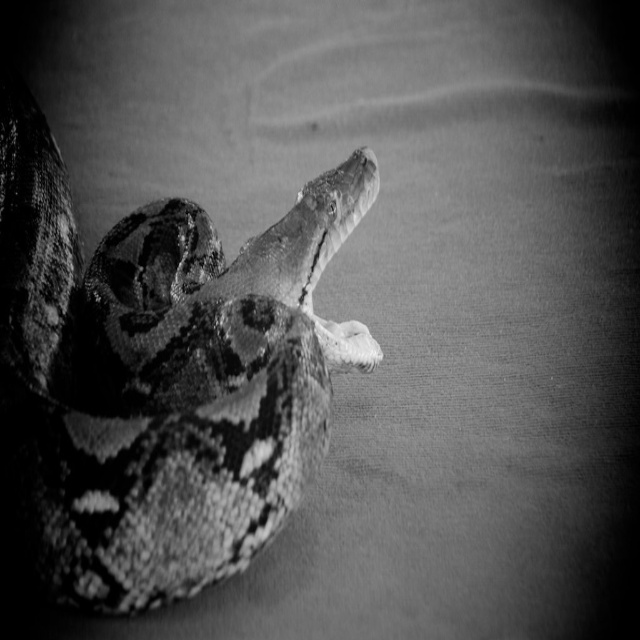Snake: (6, 102, 382, 616)
